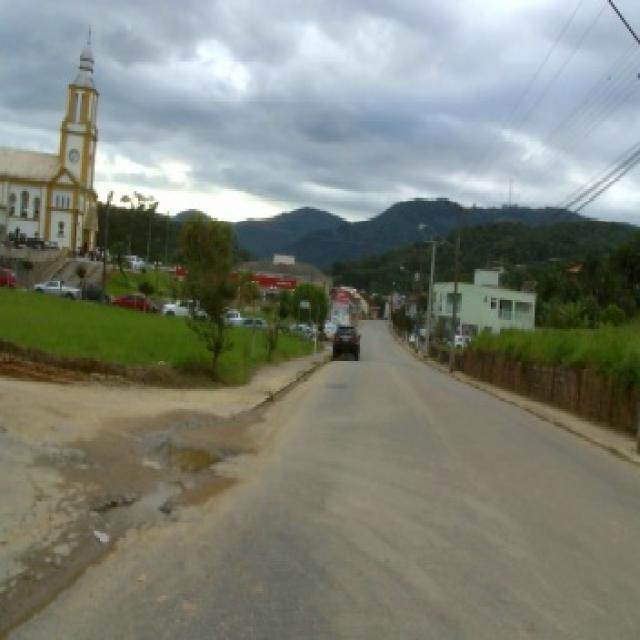Poth-hole: (76, 411, 262, 538)
